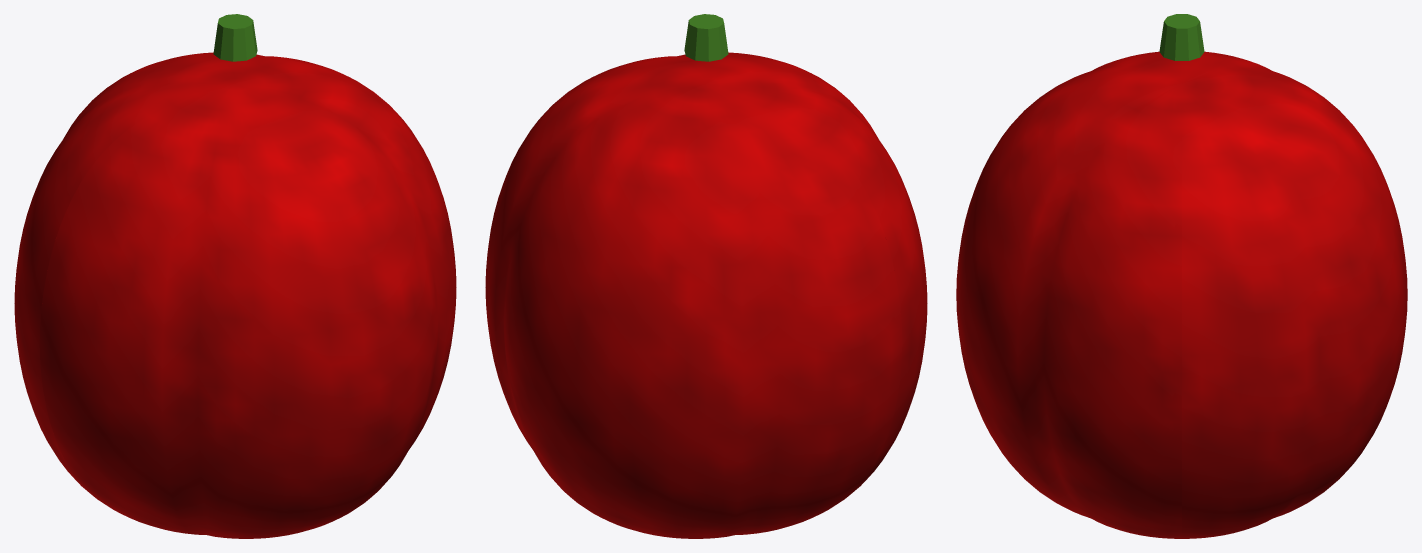
File: poivron-rouge.glb
3 views of the same model, side by side, from view 1: azimuth 30°, elevation 25°; view 2: azimuth 150°, elevation 25°; view 3: azimuth 270°, elevation 25° (orthographic).
Parts seen in each view (by area): view 1: moitie_B_peau, entier_peau, moitie_A_peau, entier_extra0; view 2: moitie_A_peau, entier_peau, moitie_B_peau, entier_extra0; view 3: entier_peau, moitie_B_peau, moitie_A_peau, entier_extra0.
Part boxes in pixels (bbox=[...]): moitie_B_peau: bbox=[39, 73, 456, 538]; entier_peau: bbox=[18, 52, 455, 538]; moitie_A_peau: bbox=[14, 52, 363, 491]; entier_extra0: bbox=[213, 14, 257, 61]; moitie_A_peau: bbox=[485, 73, 902, 538]; entier_peau: bbox=[486, 52, 923, 538]; moitie_B_peau: bbox=[578, 52, 927, 491]; entier_extra0: bbox=[684, 14, 728, 61]; entier_peau: bbox=[956, 52, 1407, 535]; moitie_B_peau: bbox=[959, 51, 1181, 538]; moitie_A_peau: bbox=[1182, 51, 1405, 538]; entier_extra0: bbox=[1159, 14, 1204, 60].
Size of the model in its own units: 1.6 by 1.89 by 1.6.
